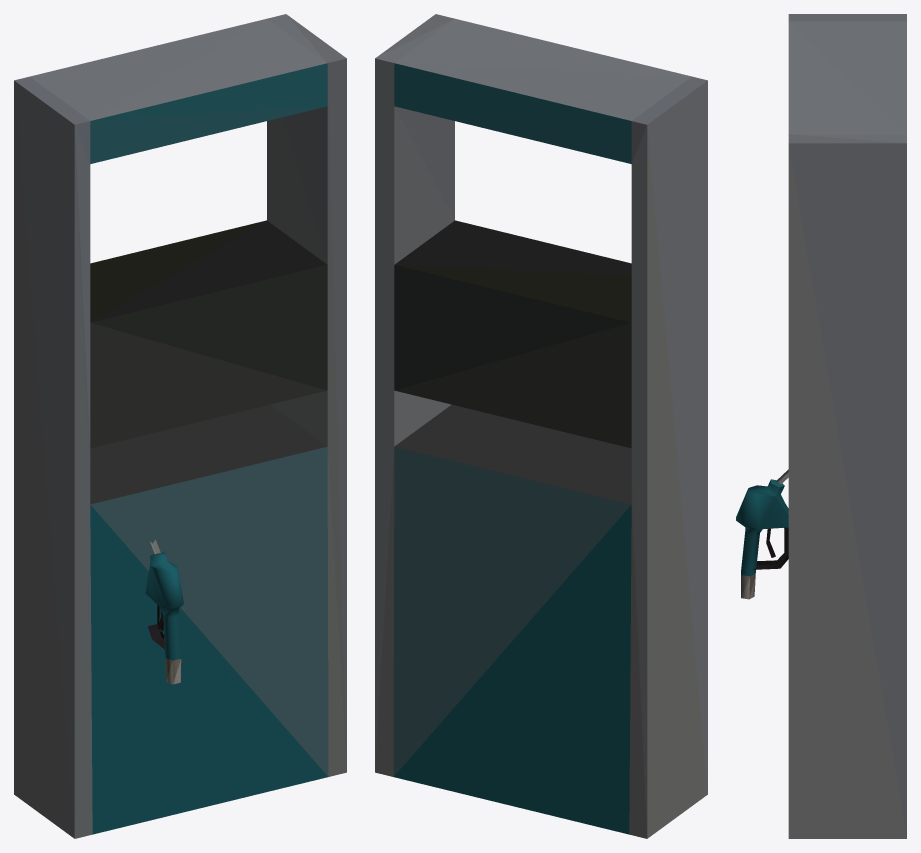
Rendered from gs_fuel_pump_slim.glb.
3 views of the same model, side by side, from view 1: azimuth 30°, elevation 25°; view 2: azimuth 150°, elevation 25°; view 3: azimuth 270°, elevation 25° (orthographic). The views are drawn at different scales.
Parts seen in each view (by area): view 1: Fuel_pump_, Dispenser; view 2: Fuel_pump_; view 3: Fuel_pump_, Dispenser.
Boxes of the visible parts, x1,y1,x2,y2 form: Fuel_pump_: [14, 14, 346, 838]; Dispenser: [145, 539, 183, 684]; Fuel_pump_: [375, 14, 707, 838]; Fuel_pump_: [788, 14, 906, 838]; Dispenser: [736, 469, 788, 599].
Size of the model in its own units: 1.12 by 2.81 by 0.6244.
